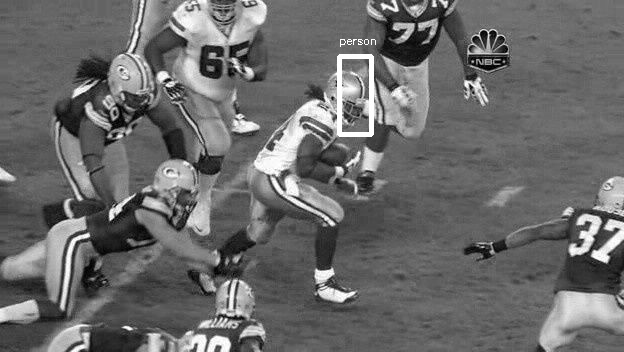person: (328, 71, 364, 124), (327, 71, 363, 124), (329, 71, 365, 124), (328, 70, 364, 123), (328, 72, 364, 125)
target_negative: (30, 261, 553, 327), (208, 92, 438, 212), (380, 326, 521, 345), (605, 49, 619, 165), (525, 197, 540, 246)
